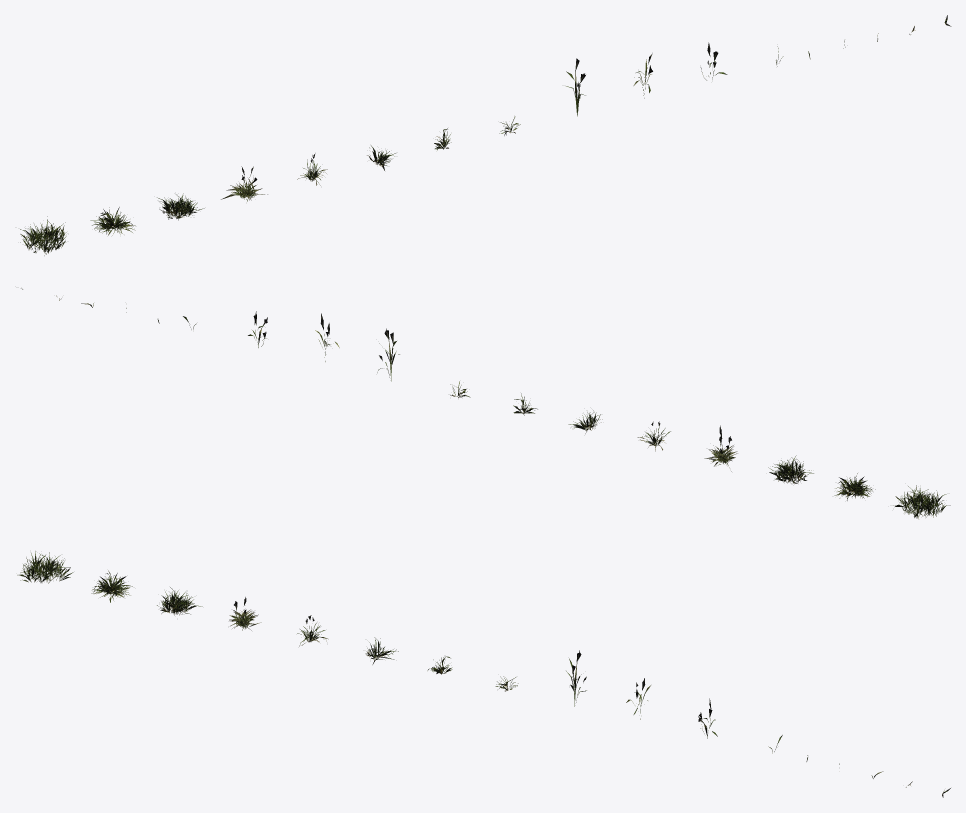
The model's file is grass_medium_01.glb.
The picture shows the model from 3 angles, top to bottom: view 1: azimuth 30°, elevation 25°; view 2: azimuth 150°, elevation 25°; view 3: azimuth 330°, elevation 25°; orthographic projection.
Parts seen in each view (by area): view 1: grass_medium_01_large_a_LOD0, grass_medium_01_large_c_LOD0, grass_medium_01_large_b_LOD0; view 2: grass_medium_01_large_a_LOD0, grass_medium_01_large_c_LOD0, grass_medium_01_large_b_LOD0; view 3: grass_medium_01_large_a_LOD0, grass_medium_01_large_b_LOD0, grass_medium_01_large_c_LOD0.
Boxes of the visible parts, x1=… form: grass_medium_01_large_a_LOD0: x1=20, y1=216, x2=66, y2=255; grass_medium_01_large_c_LOD0: x1=157, y1=193, x2=204, y2=220; grass_medium_01_large_b_LOD0: x1=90, y1=207, x2=135, y2=235; grass_medium_01_large_a_LOD0: x1=893, y1=485, x2=950, y2=518; grass_medium_01_large_c_LOD0: x1=768, y1=455, x2=813, y2=483; grass_medium_01_large_b_LOD0: x1=834, y1=473, x2=875, y2=500; grass_medium_01_large_a_LOD0: x1=17, y1=551, x2=73, y2=583; grass_medium_01_large_b_LOD0: x1=91, y1=570, x2=132, y2=602; grass_medium_01_large_c_LOD0: x1=157, y1=587, x2=202, y2=615.
Bounding box in the file's own units: 5.6 × 0.3389 × 0.3266.
1 material, 1 textured.
